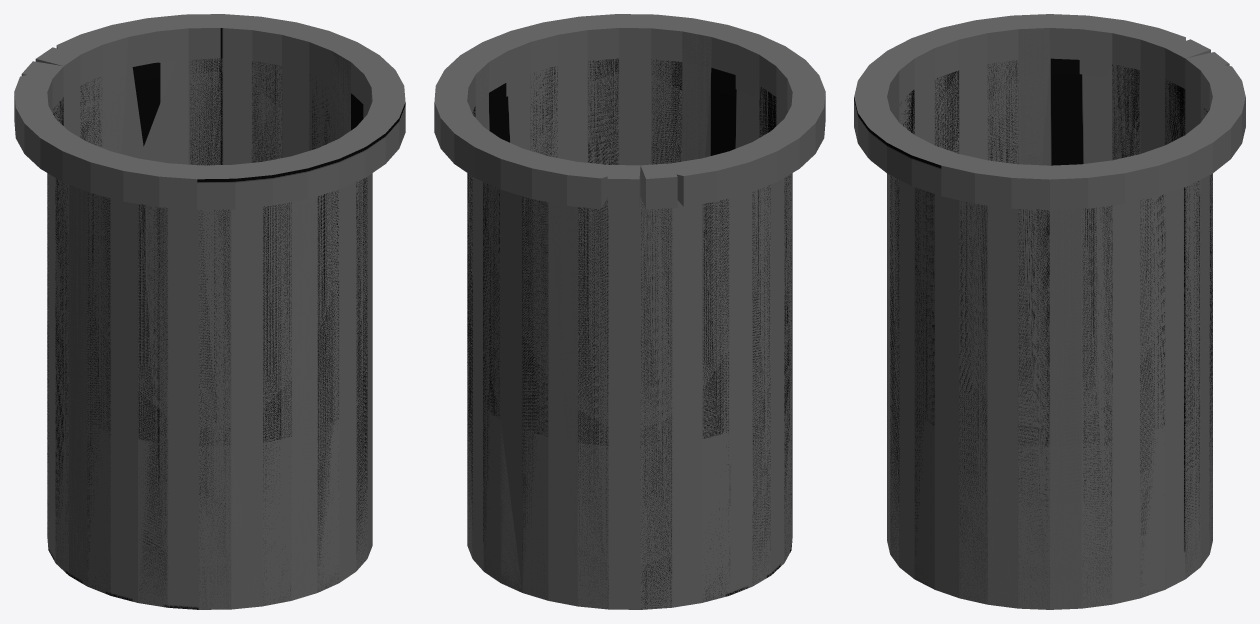
The model's file is TrashCan.fbx.
The picture shows the model from 3 angles, left to right: view 1: azimuth 30°, elevation 25°; view 2: azimuth 150°, elevation 25°; view 3: azimuth 270°, elevation 25°; orthographic projection.
Visible parts, largest first — view 1: Cylinder, Cylinder.001; view 2: Cylinder, Cylinder.001; view 3: Cylinder, Cylinder.001.
Part boxes in pixels (bbox=[...]): Cylinder: bbox=[14, 14, 405, 609]; Cylinder.001: bbox=[16, 15, 403, 607]; Cylinder: bbox=[434, 14, 825, 609]; Cylinder.001: bbox=[446, 19, 813, 590]; Cylinder: bbox=[854, 14, 1245, 609]; Cylinder.001: bbox=[858, 16, 1239, 609].
Bounding box in the file's own units: 240 × 301 × 240.
1 material, 1 textured.
